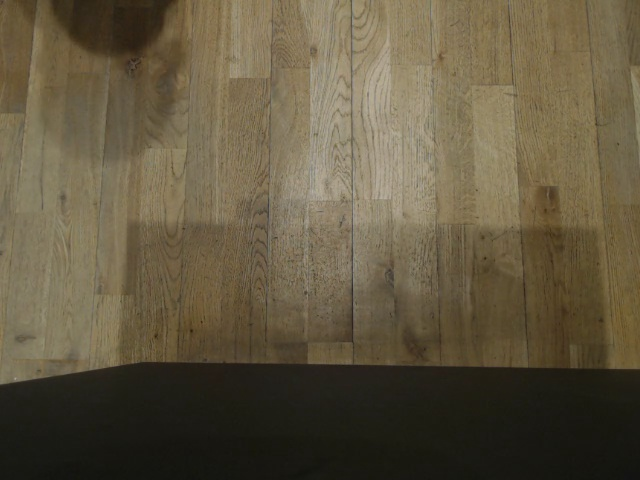beer: (1, 138, 46, 225), (409, 0, 461, 41)
